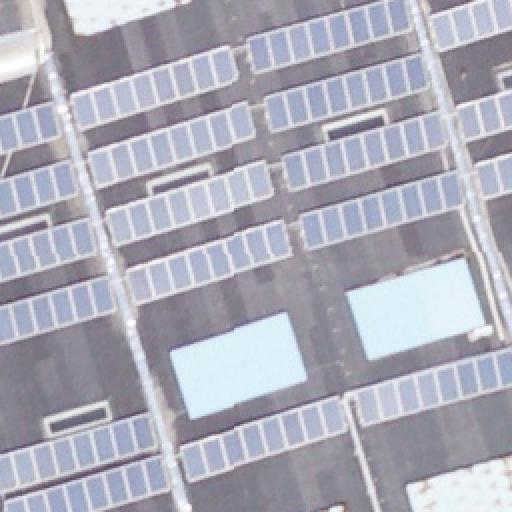solar-panel: (177, 391, 351, 481), (107, 159, 277, 249), (87, 99, 257, 189), (127, 218, 297, 306), (70, 46, 242, 130), (263, 50, 433, 134), (279, 107, 449, 189), (0, 410, 160, 494), (353, 344, 511, 428), (300, 170, 468, 246), (246, 0, 414, 72), (4, 454, 172, 512), (0, 271, 120, 345), (0, 218, 96, 282), (0, 157, 84, 219), (428, 0, 512, 52), (0, 100, 64, 156), (456, 88, 512, 144), (473, 152, 511, 200)
